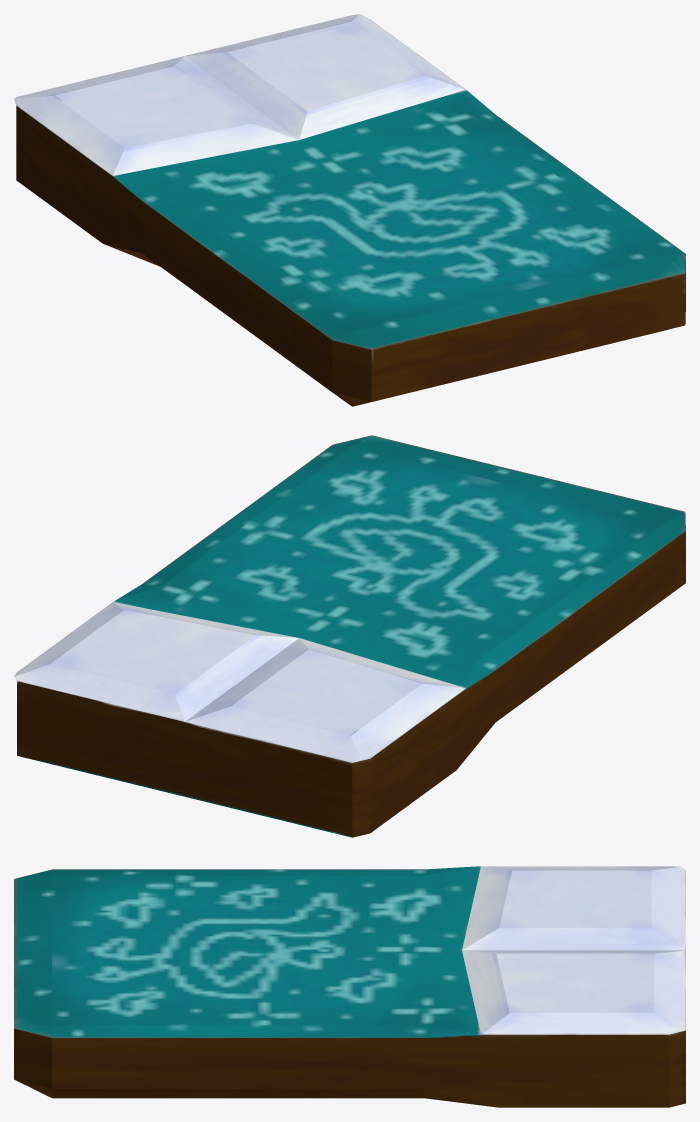
Rendered from КРОВАТЬ.fbx.
The picture shows the model from 3 angles, top to bottom: view 1: azimuth 30°, elevation 25°; view 2: azimuth 150°, elevation 25°; view 3: azimuth 270°, elevation 25°; orthographic projection. The views are drawn at different scales.
Parts seen in each view (by area): view 1: Куб; view 2: Куб; view 3: Куб.
Boxes of the visible parts, bbox=[...] form: Куб: bbox=[14, 14, 685, 406]; Куб: bbox=[14, 435, 685, 837]; Куб: bbox=[14, 866, 685, 1107].
Bounding box in the file's own units: 624 × 142 × 1051.
Materials: 1 (1 with a texture image).
